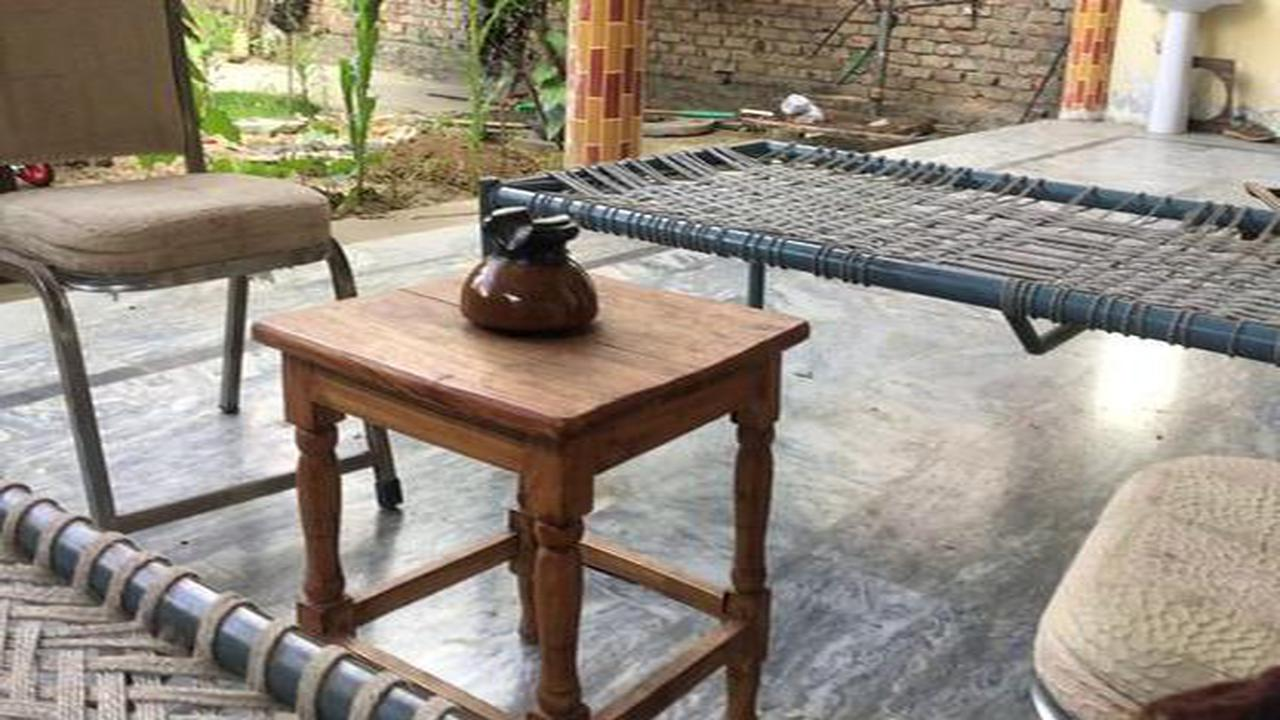insulator_pin: (437, 197, 628, 357)
